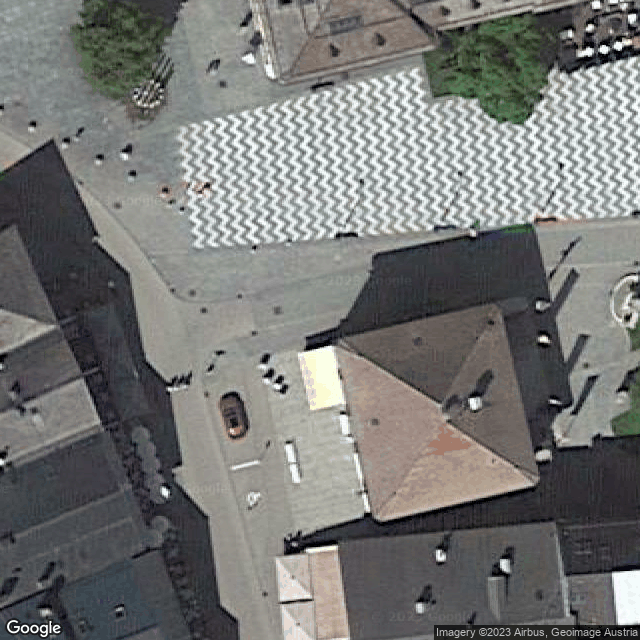obstacles: (467, 395, 485, 412), (499, 557, 513, 574), (38, 606, 55, 620), (433, 550, 448, 564), (414, 600, 428, 614)
ridge: (2, 488, 130, 542), (1, 382, 83, 417), (117, 614, 183, 637), (439, 404, 444, 424)
roof: (331, 303, 540, 521), (338, 522, 571, 639), (1, 430, 153, 607), (262, 1, 592, 82), (1, 551, 195, 640), (1, 335, 102, 465), (1, 224, 61, 355)
valley: (378, 423, 444, 521), (337, 343, 440, 404), (444, 423, 538, 483), (440, 310, 497, 404), (284, 2, 332, 79), (387, 2, 435, 41), (1, 309, 59, 329)
